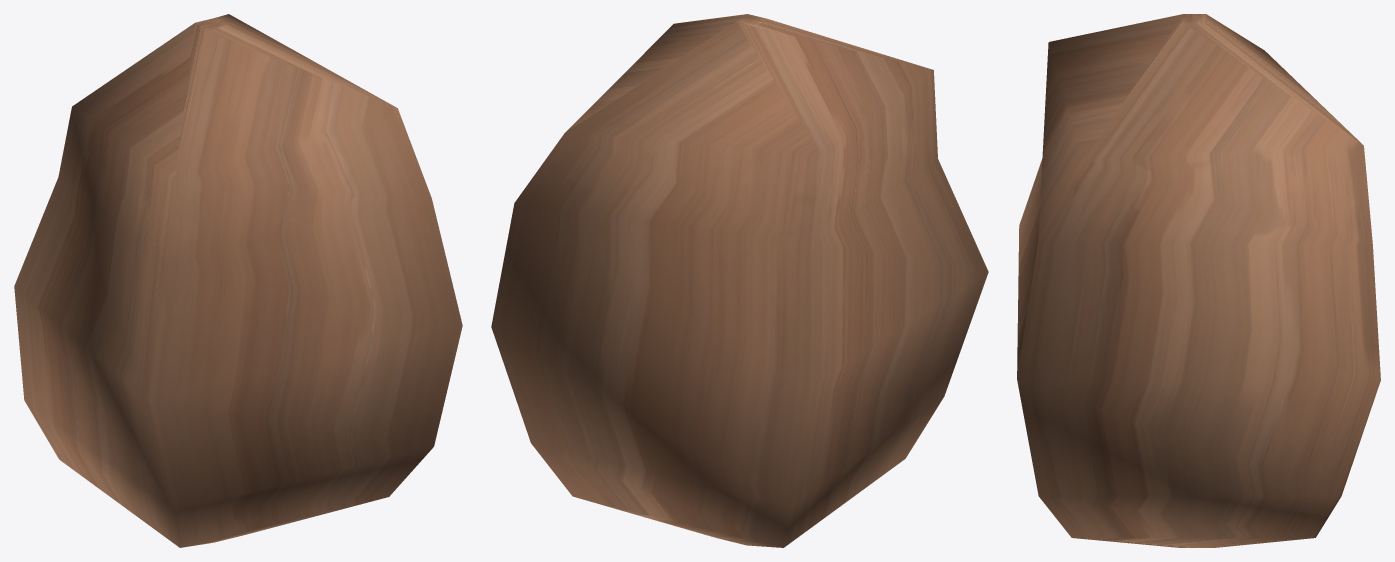
Rendered from seed.glb.
The picture shows the model from 3 angles, left to right: view 1: azimuth 30°, elevation 25°; view 2: azimuth 150°, elevation 25°; view 3: azimuth 270°, elevation 25°; orthographic projection.
Parts seen in each view (by area): view 1: seed; view 2: seed; view 3: seed.
Boxes of the visible parts, x1,y1,x2,y2 form: seed: [14, 14, 462, 547]; seed: [491, 14, 988, 547]; seed: [1017, 14, 1380, 547].
Bounding box in the file's own units: 1.03 × 1.6 × 1.02.
Materials: 1 (1 with a texture image).
